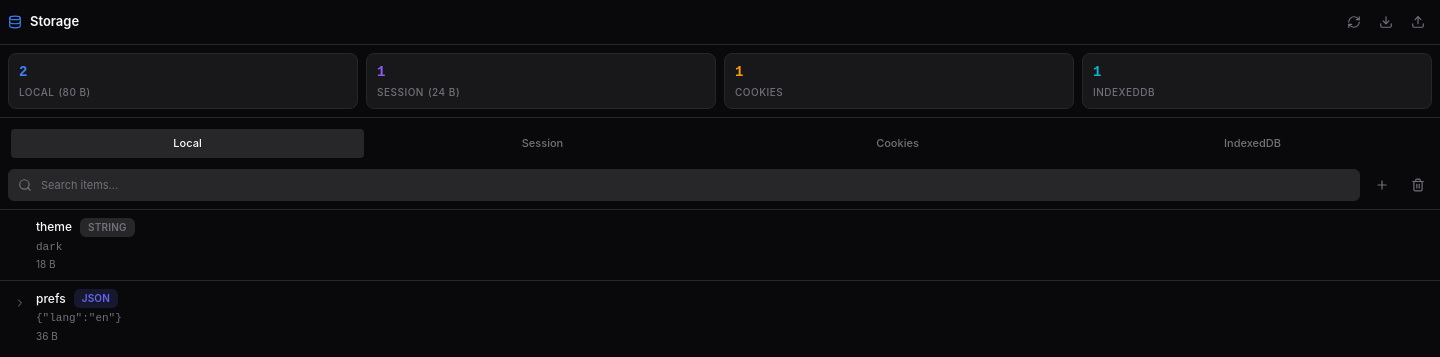
Test: StorageTab › shows session storage, cookies and IndexedDB lists per tab
Click the button "Session" at {"x": 542, "y": 143}, box x1=366 y1=129 x2=719 y2=158
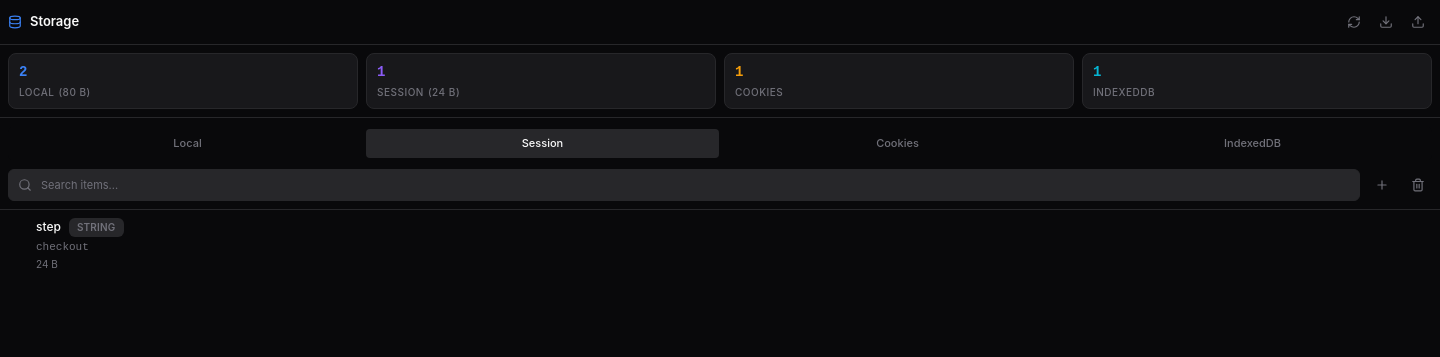
Now the text "checkout" is shown, box x1=36 y1=240 x2=89 y2=252
Now the text "theme" is gone
Click the button "Cookies" at {"x": 898, "y": 143}, box x1=721 y1=129 x2=1074 y2=158
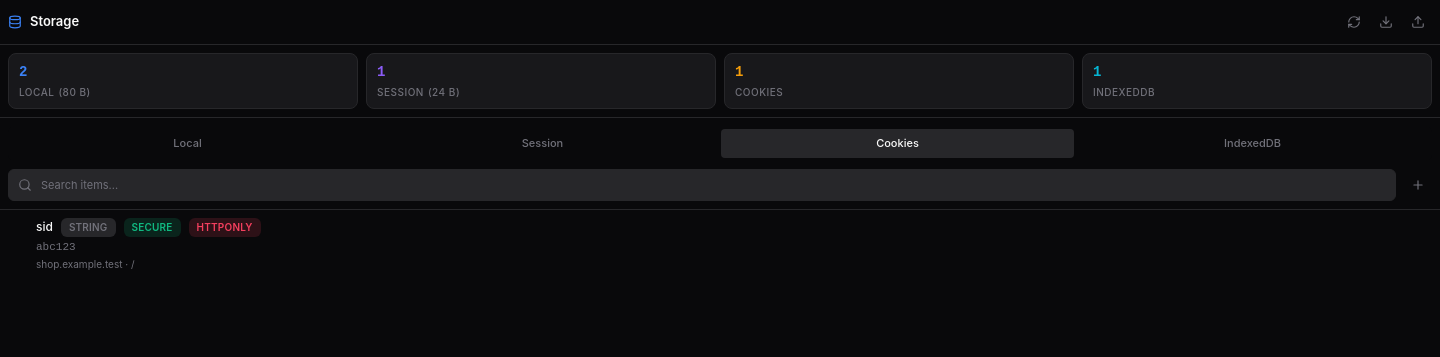
Now the text "sid" is shown, box x1=36 y1=218 x2=53 y2=236
Now the text "secure" is shown, box x1=124 y1=218 x2=181 y2=236
Now the text "httpOnly" is shown, box x1=189 y1=218 x2=261 y2=236
Click the button "IndexedDB" at {"x": 1252, "y": 143}, box x1=1076 y1=129 x2=1429 y2=158
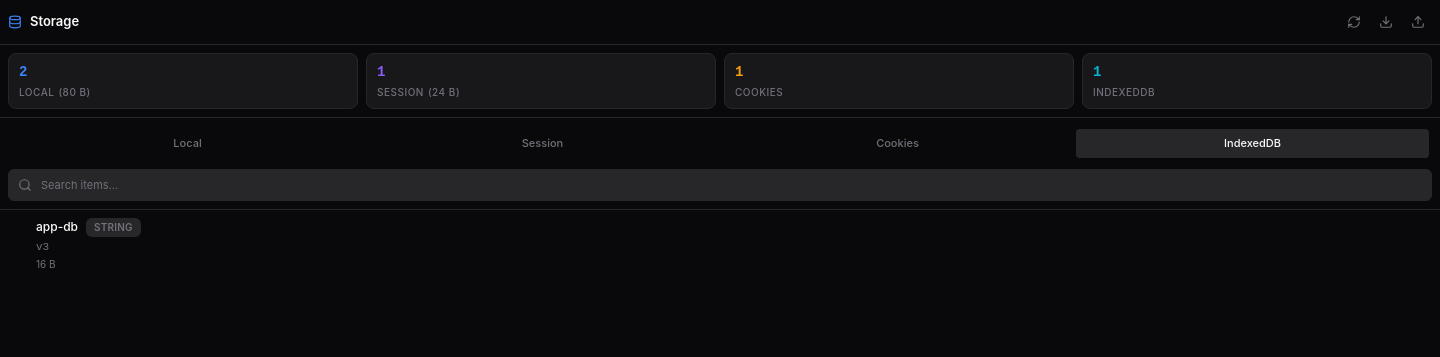
Now the text "app-db" is shown, box x1=36 y1=218 x2=78 y2=236
Now the text "v3" is shown, box x1=36 y1=240 x2=49 y2=252
